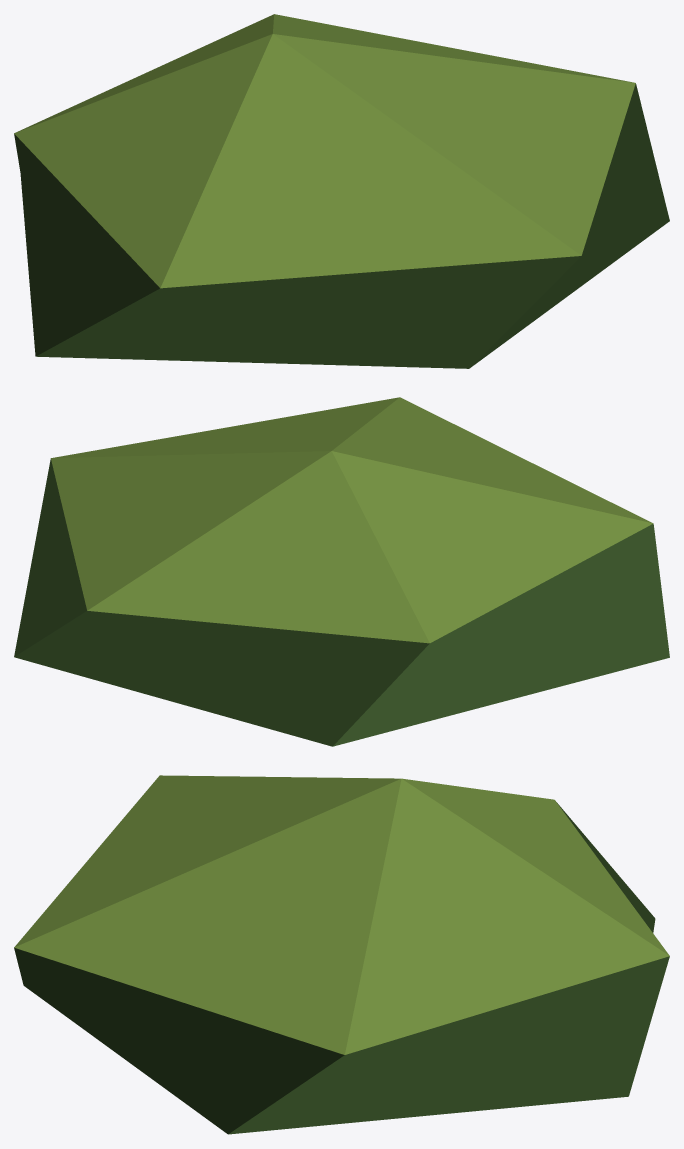
Rendered from gf_pebble_d.glb.
The picture shows the model from 3 angles, top to bottom: view 1: azimuth 30°, elevation 25°; view 2: azimuth 150°, elevation 25°; view 3: azimuth 270°, elevation 25°; orthographic projection. The views are drawn at different scales.
Parts seen in each view (by area): view 1: gf_pebble_d; view 2: gf_pebble_d; view 3: gf_pebble_d.
Boxes of the visible parts, x1,y1,x2,y2 form: gf_pebble_d: (14,14,669,368); gf_pebble_d: (14,397,669,746); gf_pebble_d: (14,775,669,1134).
Size of the model in its own units: 0.0667 by 0.02 by 0.0587.
